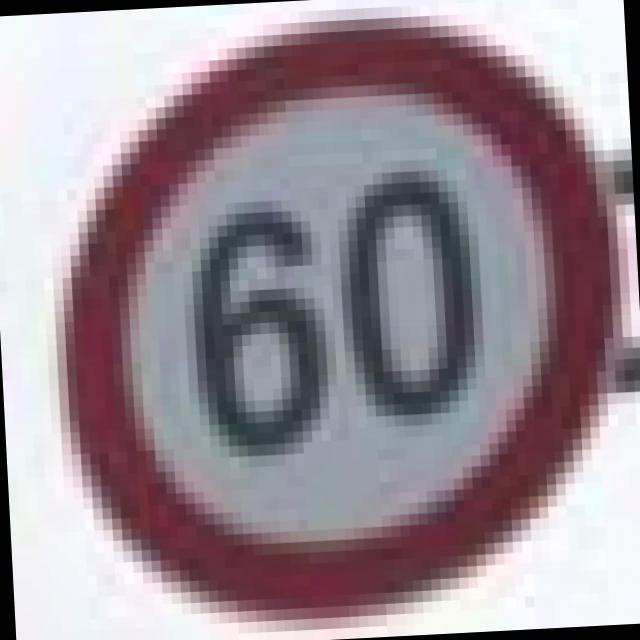Ograniczenie predkosci do 60: (30, 0, 640, 632)
